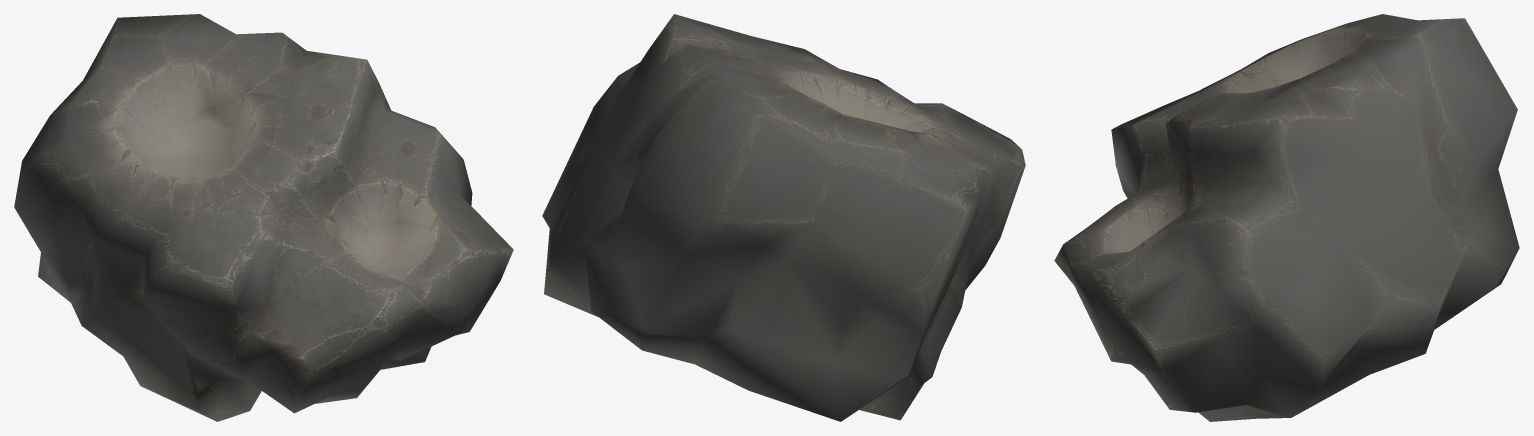
The model's file is legacy_asteroid_01.glb.
3 views of the same model, side by side, from view 1: azimuth 30°, elevation 25°; view 2: azimuth 150°, elevation 25°; view 3: azimuth 270°, elevation 25° (orthographic). The views are drawn at different scales.
Parts seen in each view (by area): view 1: tripo_node_38f4deac-4a8e-4ec6-bb0d-ee2f164c3542; view 2: tripo_node_38f4deac-4a8e-4ec6-bb0d-ee2f164c3542; view 3: tripo_node_38f4deac-4a8e-4ec6-bb0d-ee2f164c3542.
Part boxes in pixels (<box>): tripo_node_38f4deac-4a8e-4ec6-bb0d-ee2f164c3542: <box>14,14,513,421</box>; tripo_node_38f4deac-4a8e-4ec6-bb0d-ee2f164c3542: <box>542,14,1025,421</box>; tripo_node_38f4deac-4a8e-4ec6-bb0d-ee2f164c3542: <box>1054,14,1519,421</box>.
Size of the model in its own units: 0.9859 by 0.7838 by 0.9509.
1 material, 1 textured.
